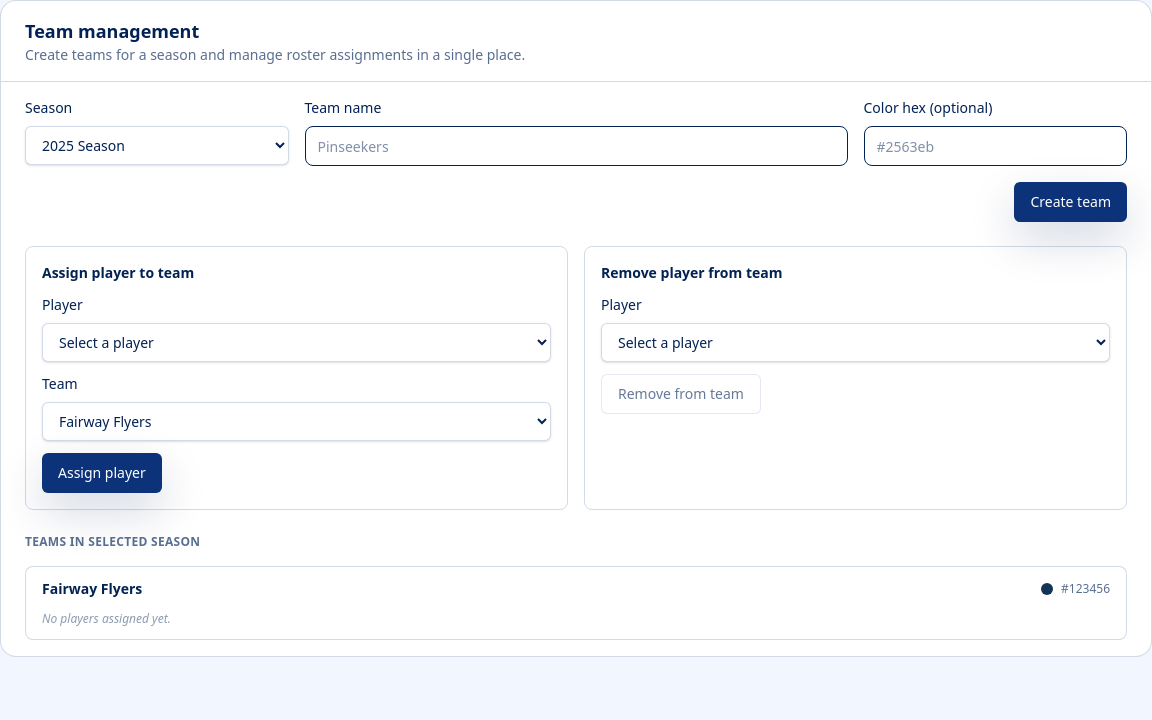
Test case: TeamManager › assigns a player to a team
Select "Alex Golfer (Unassigned)" in the dropdown labelled "Player" below "Assign player to team" at [296, 342], box [42,323,551,362]
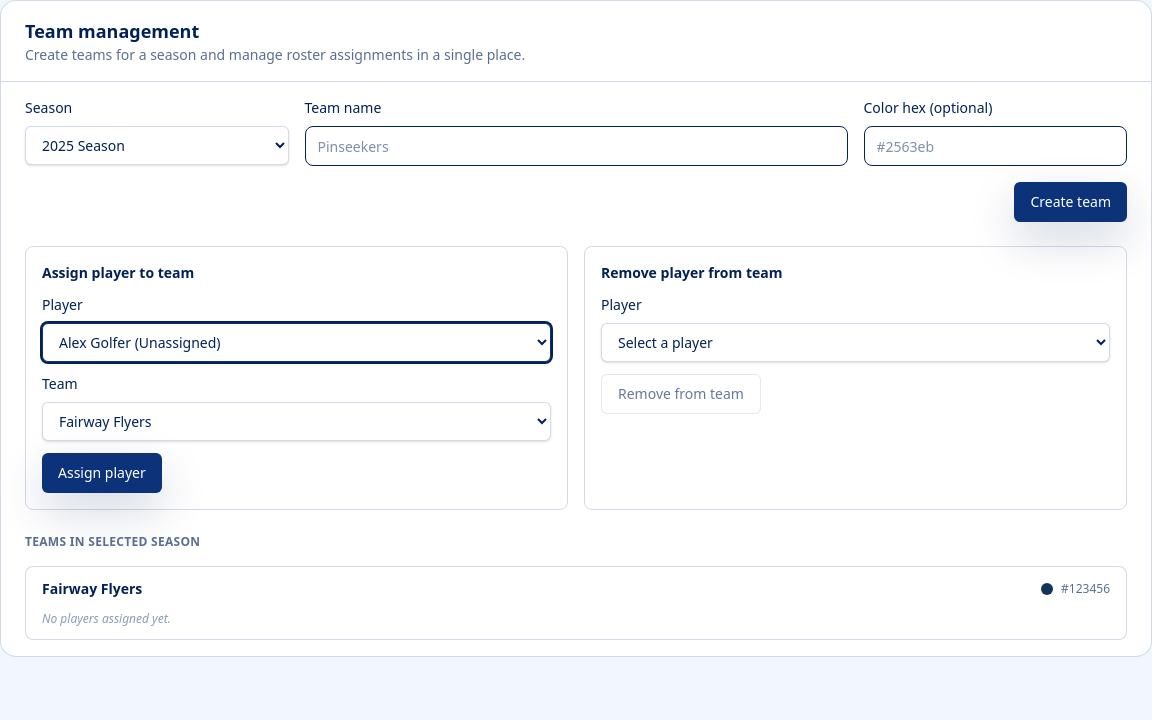
Select "Fairway Flyers" in the dropdown labelled "Team" at [296, 422], box [42,402,551,441]
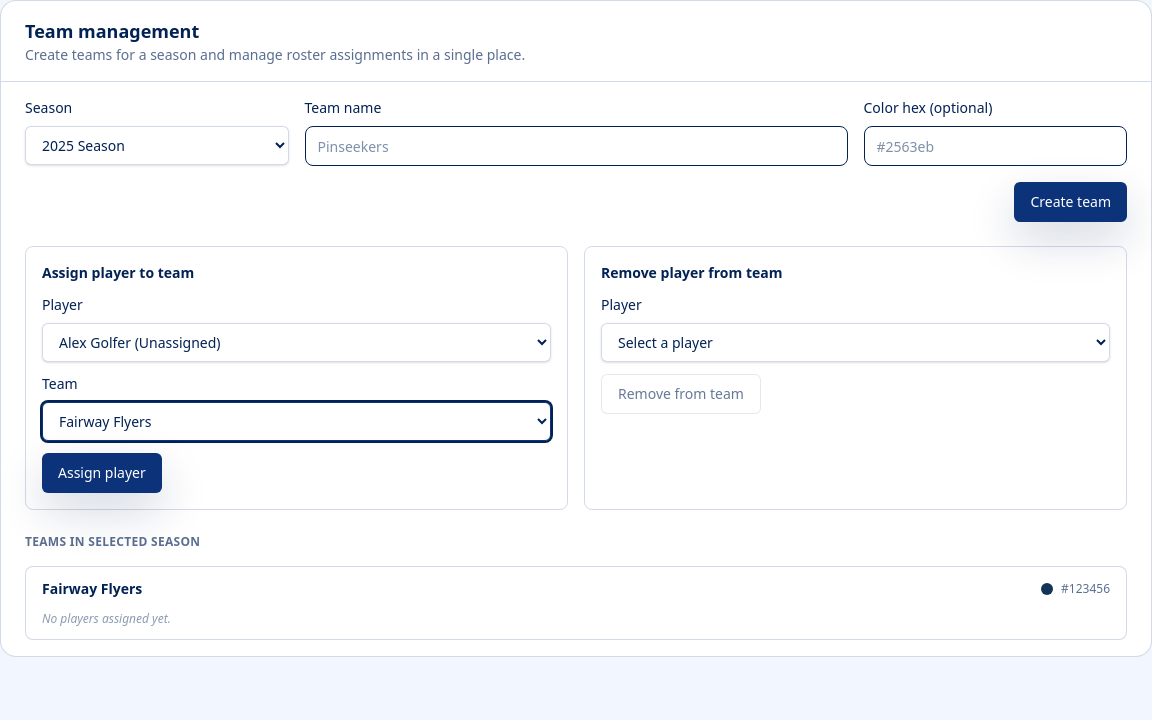
Click the button "Assign player".
click(102, 473)  # box [42,453,162,493]
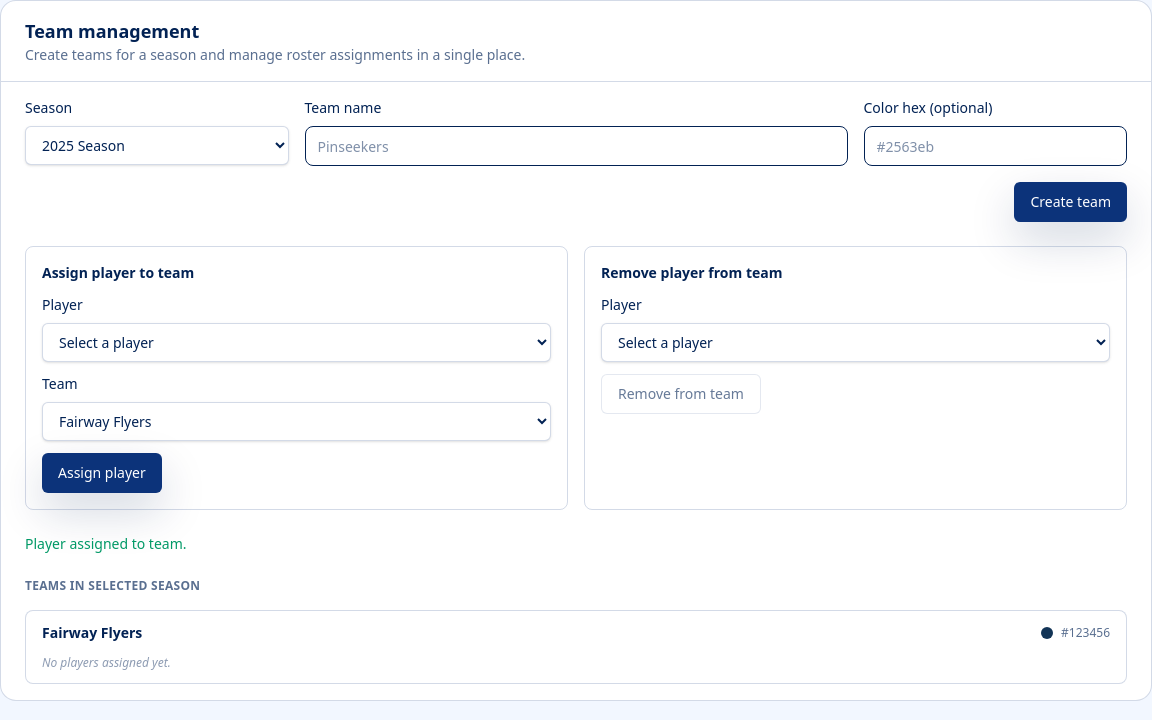
Expected: the text "Player assigned to team." is shown, [25,534,186,553]
